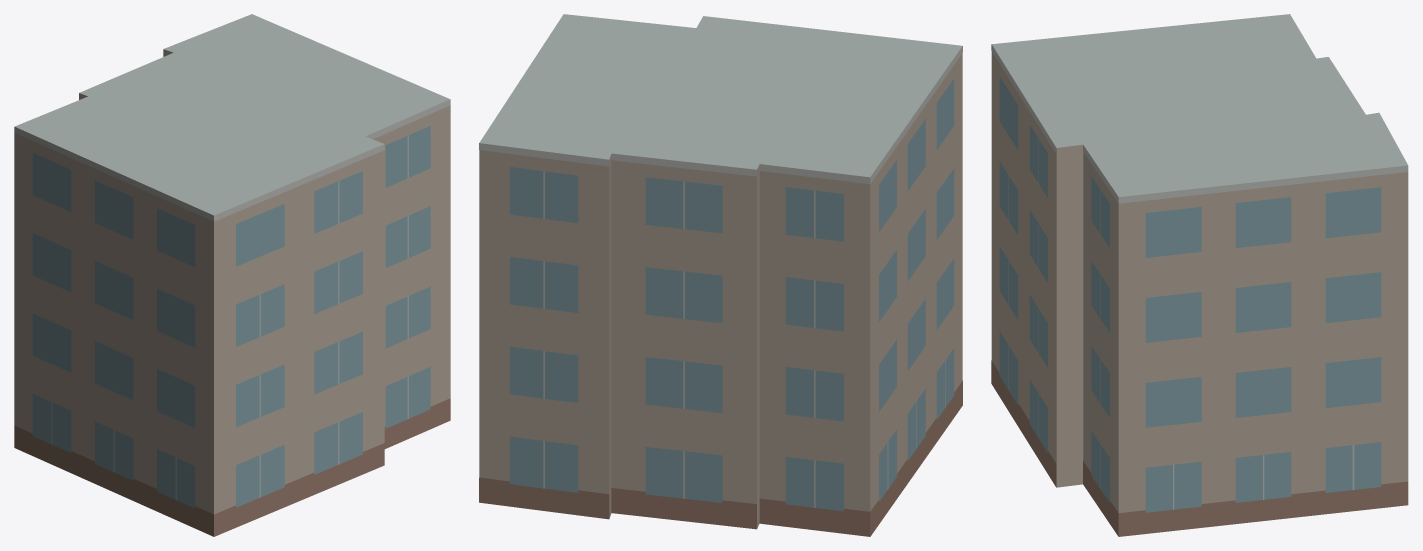
File: survey-upis-32518394.glb
3 renders of one model, left to right at view 1: azimuth 30°, elevation 25°; view 2: azimuth 150°, elevation 25°; view 3: azimuth 270°, elevation 25°, orthographic. The views are drawn at different scales.
Parts seen in each view (by area): view 1: survey-upis-32518394.tmp; view 2: survey-upis-32518394.tmp; view 3: survey-upis-32518394.tmp.
Boxes of the visible parts, <box> form: survey-upis-32518394.tmp: <box>14,14,450,536</box>; survey-upis-32518394.tmp: <box>479,14,962,536</box>; survey-upis-32518394.tmp: <box>991,14,1408,536</box>.
Bounding box in the file's own units: 14.81 × 12.8 × 14.24.
